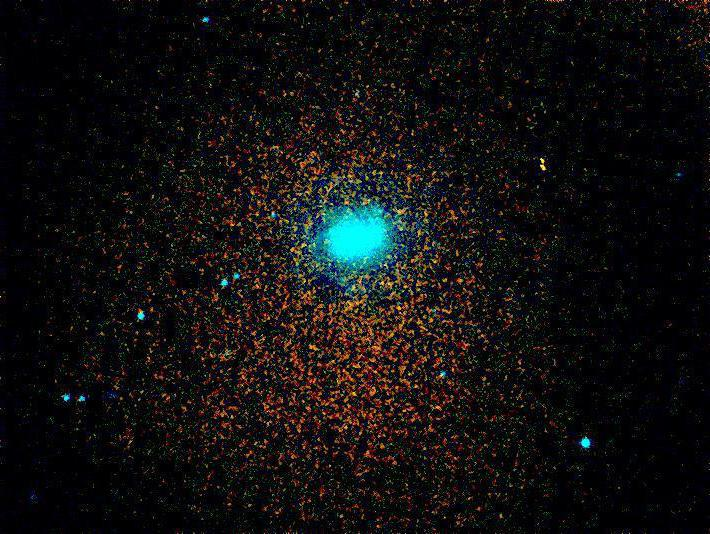star: (527, 152, 557, 182)
